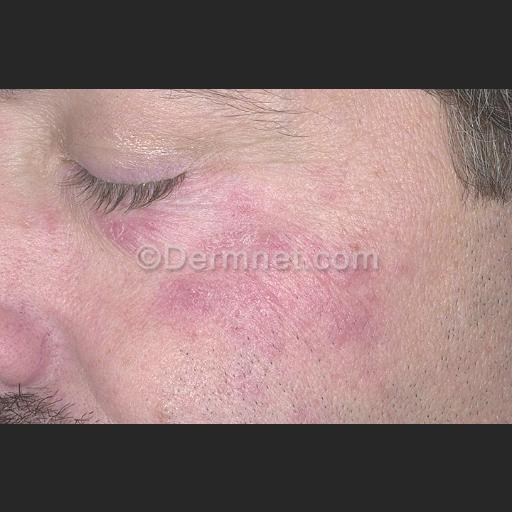Skin_Lesion: (216, 215, 288, 265), (228, 280, 290, 338), (162, 270, 216, 326), (326, 306, 364, 352), (94, 217, 168, 239), (35, 326, 75, 360), (0, 292, 36, 324)
